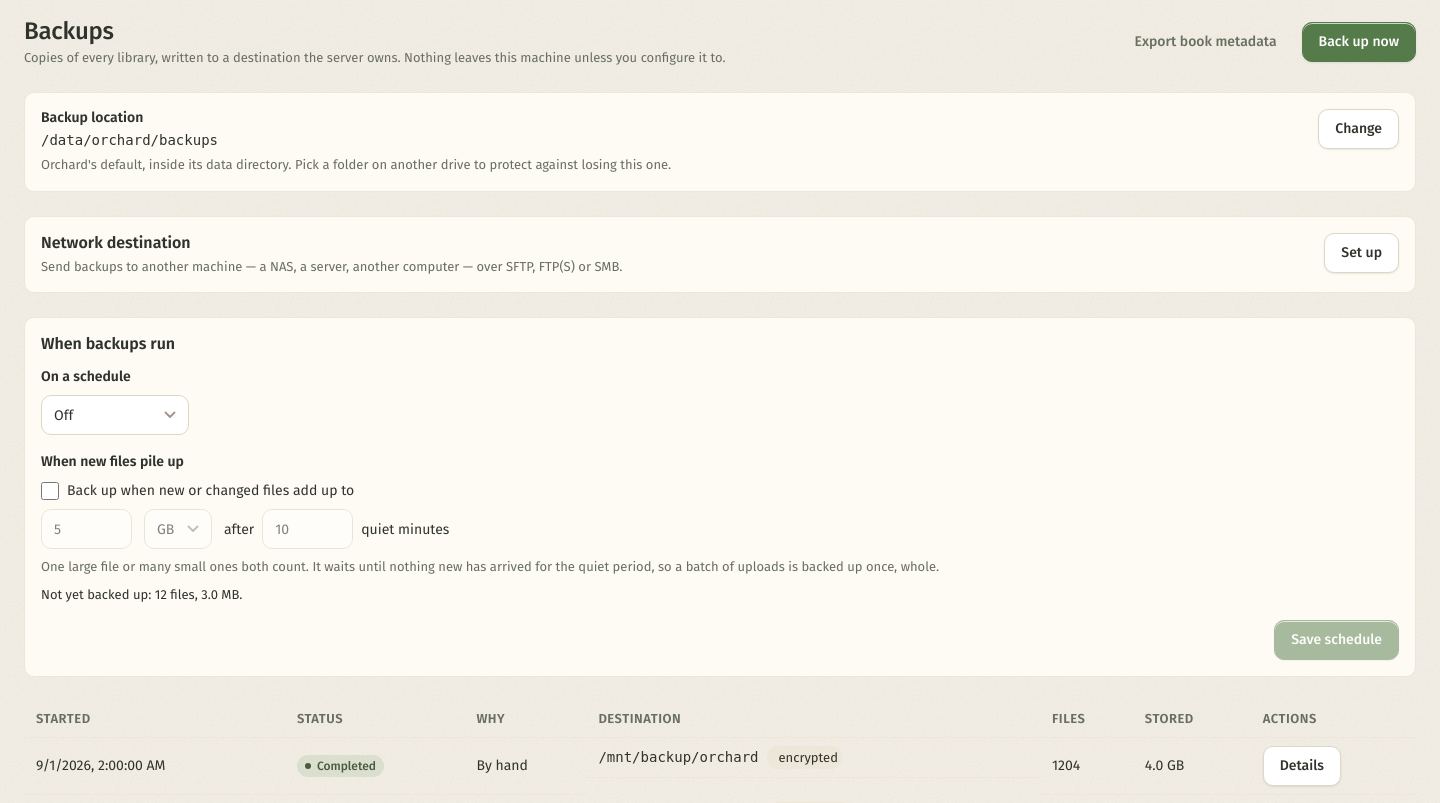
Test: BackupsPage › opens a backup and verifies it
This screenshot has width=1440, height=803.
Step 1. Click the button with test id "backup-open-b1" → (1302, 766), box [1263, 746, 1341, 786]
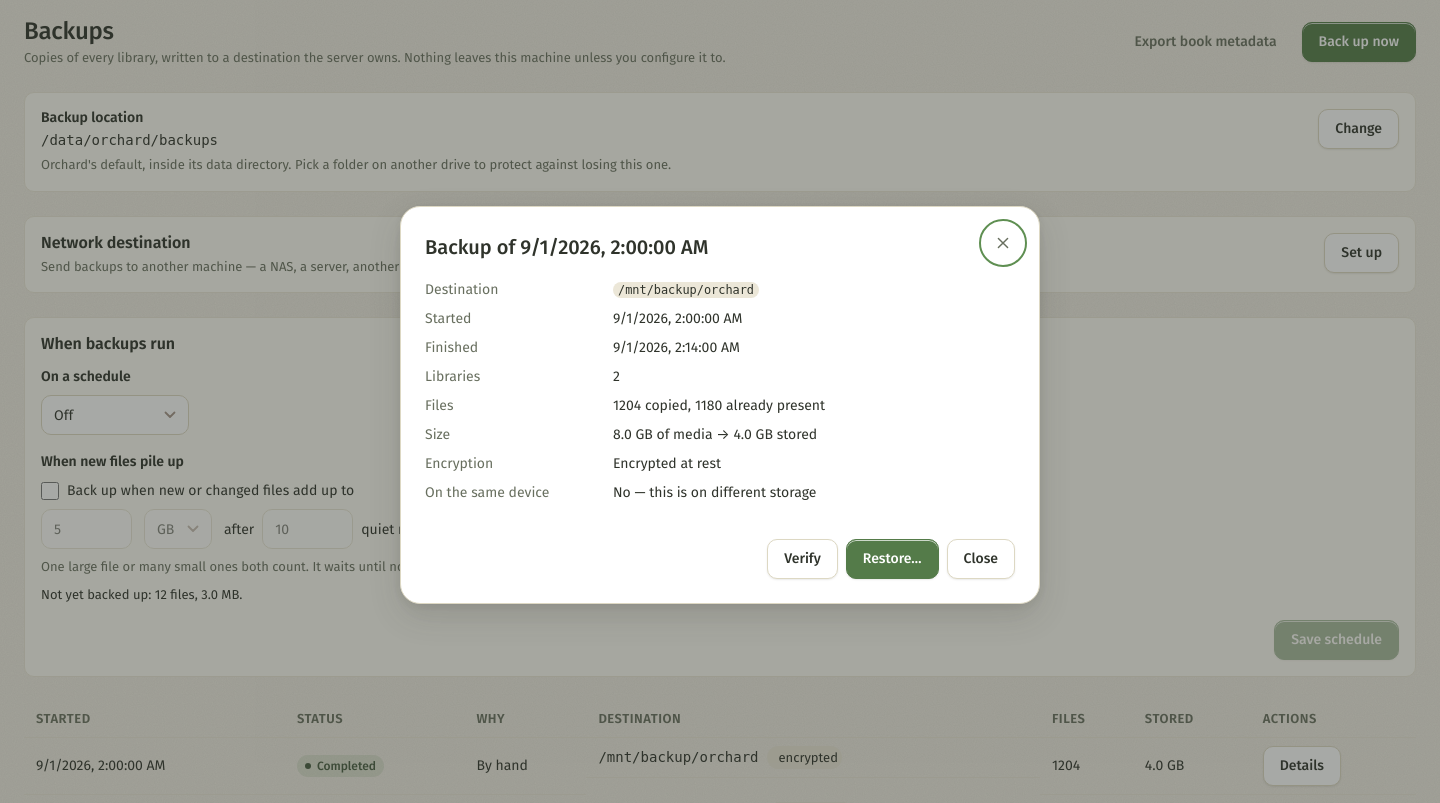
Result: the text "/mnt/backup/orchard" is shown at [613, 282, 759, 298]
Result: the text "1204 copied, 1180 already present" is shown at [613, 395, 825, 416]
Result: the text "8.0 GB of media → 4.0 GB stored" is shown at [613, 424, 817, 445]
Step 2. Click the button with test id "verify-backup" → (802, 559), box [767, 539, 838, 579]
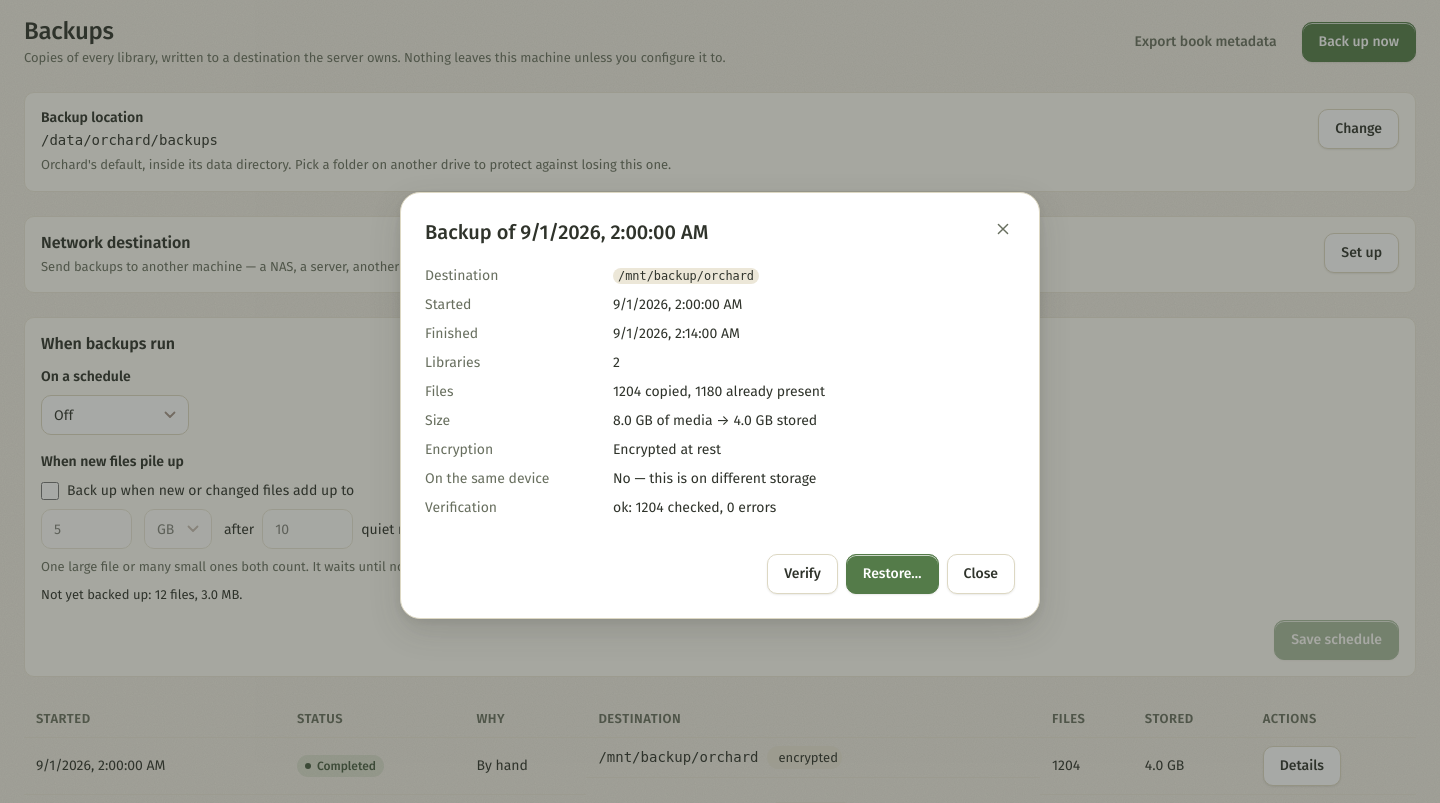
Result: the text "ok: 1204 checked, 0 errors" is shown at [613, 496, 776, 518]
